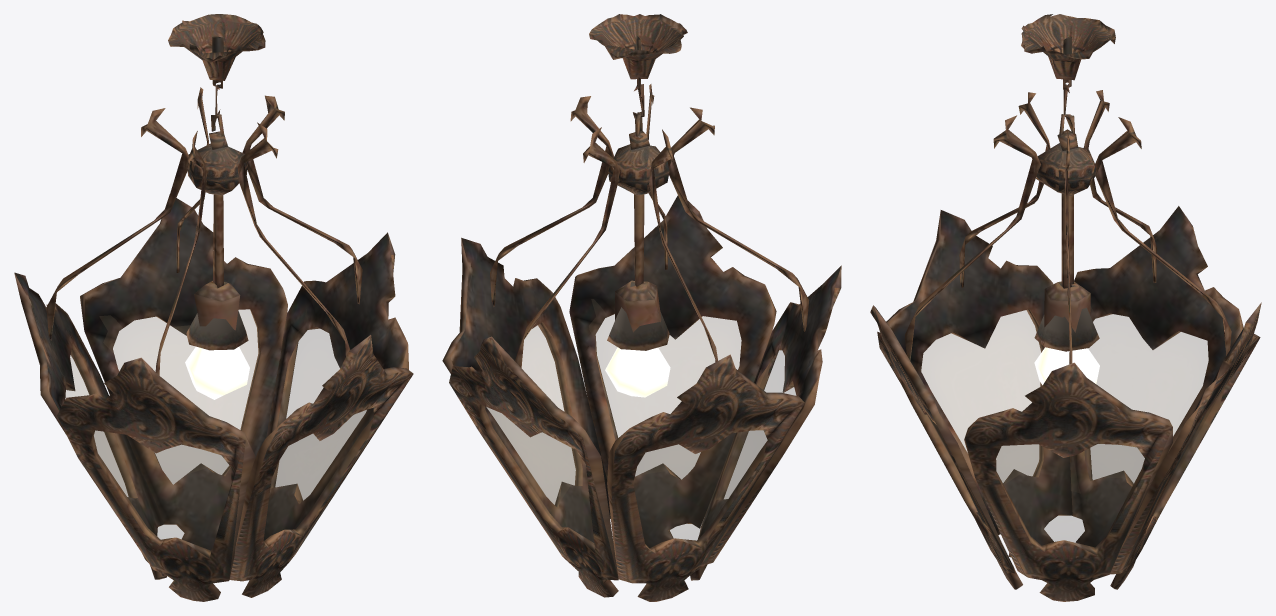
The model's file is lantern_chandelier_01.glb.
The picture shows the model from 3 angles, left to right: view 1: azimuth 30°, elevation 25°; view 2: azimuth 150°, elevation 25°; view 3: azimuth 270°, elevation 25°; orthographic projection.
Parts seen in each view (by area): view 1: lantern_chandelier_01; view 2: lantern_chandelier_01; view 3: lantern_chandelier_01.
Part boxes in pixels (x1,y1,x2,y2): lantern_chandelier_01: (14, 14, 413, 601); lantern_chandelier_01: (442, 14, 841, 601); lantern_chandelier_01: (870, 14, 1261, 601).
Size of the model in its own units: 0.5744 by 0.8763 by 0.5641.
3 materials, 2 textured.
